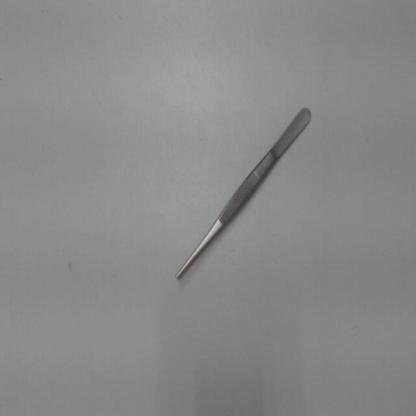Gillies Toothed Dissector: (165, 91, 331, 293)
